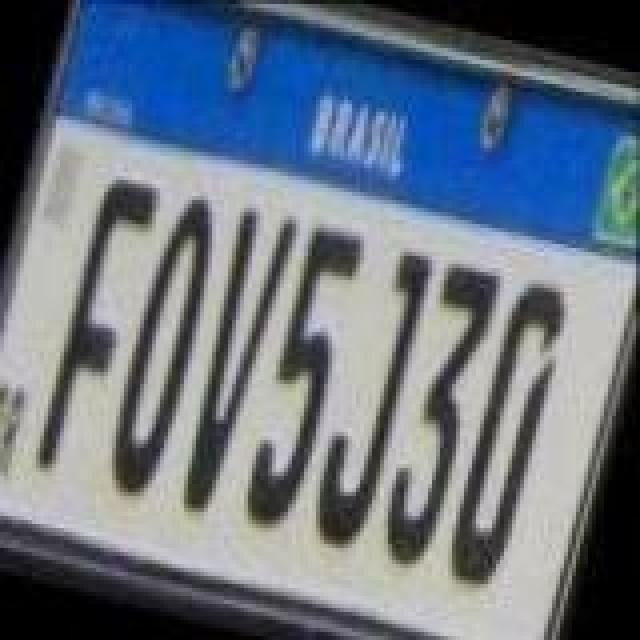3: (370, 262, 506, 574)
5: (234, 220, 370, 536)
D: (442, 272, 578, 596)
F: (30, 170, 166, 486)
J: (306, 240, 442, 556)
O: (100, 184, 232, 504)
V: (168, 202, 300, 522)
